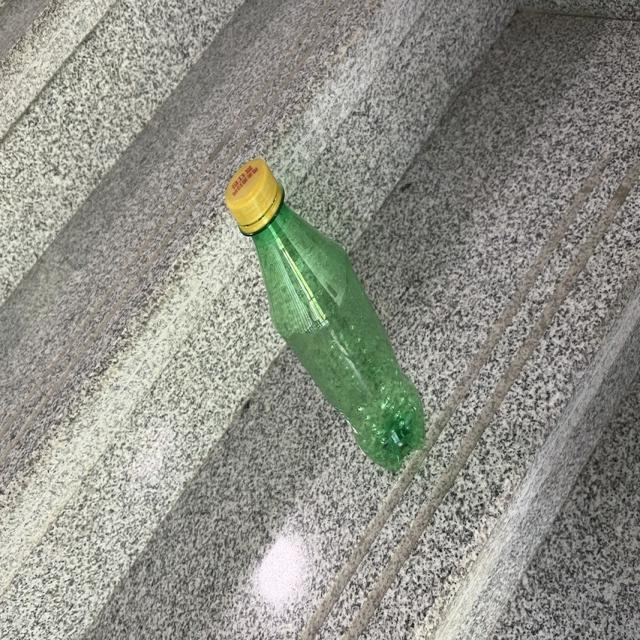empty: (225, 158, 425, 469)
